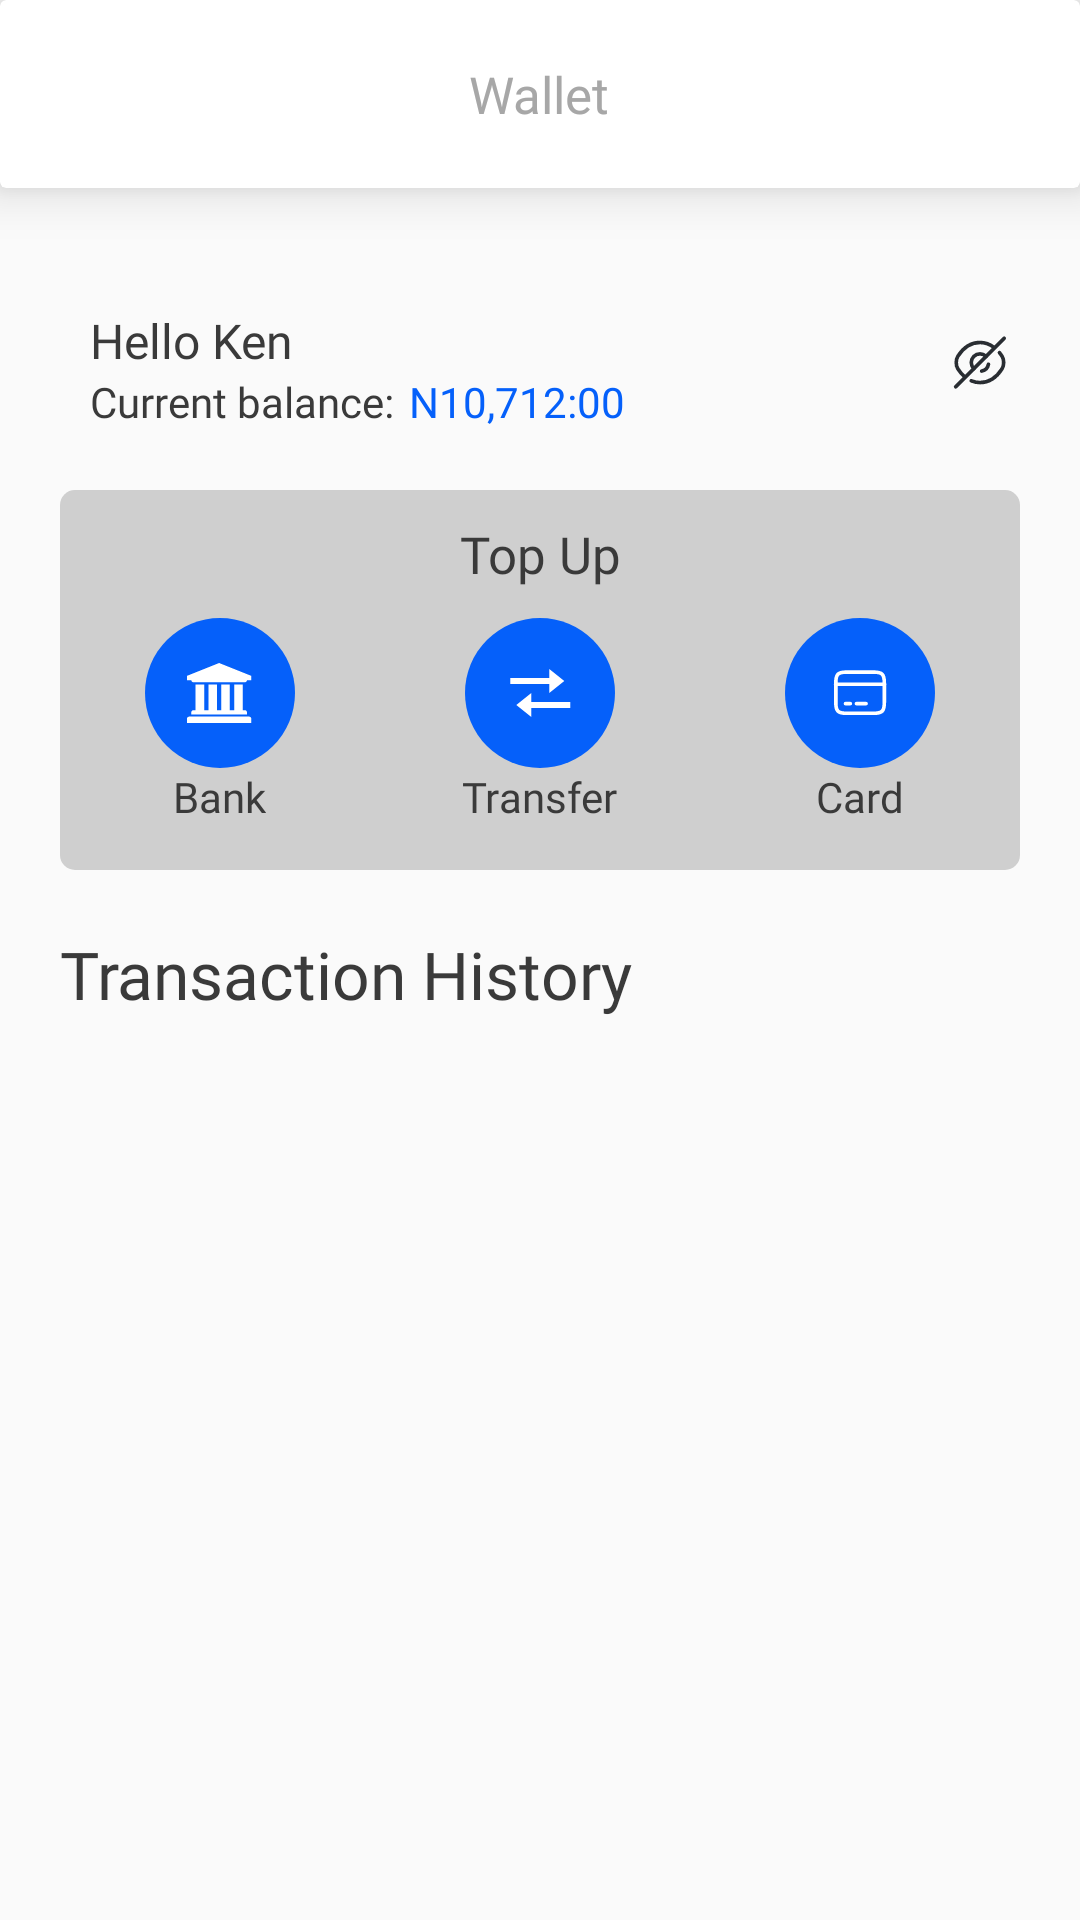

Named icons in this screenshot (1080×1920) and their bounding boxes, bbox(x1, y1, x2, y2):
eye slash: bbox(953, 336, 1006, 389)
